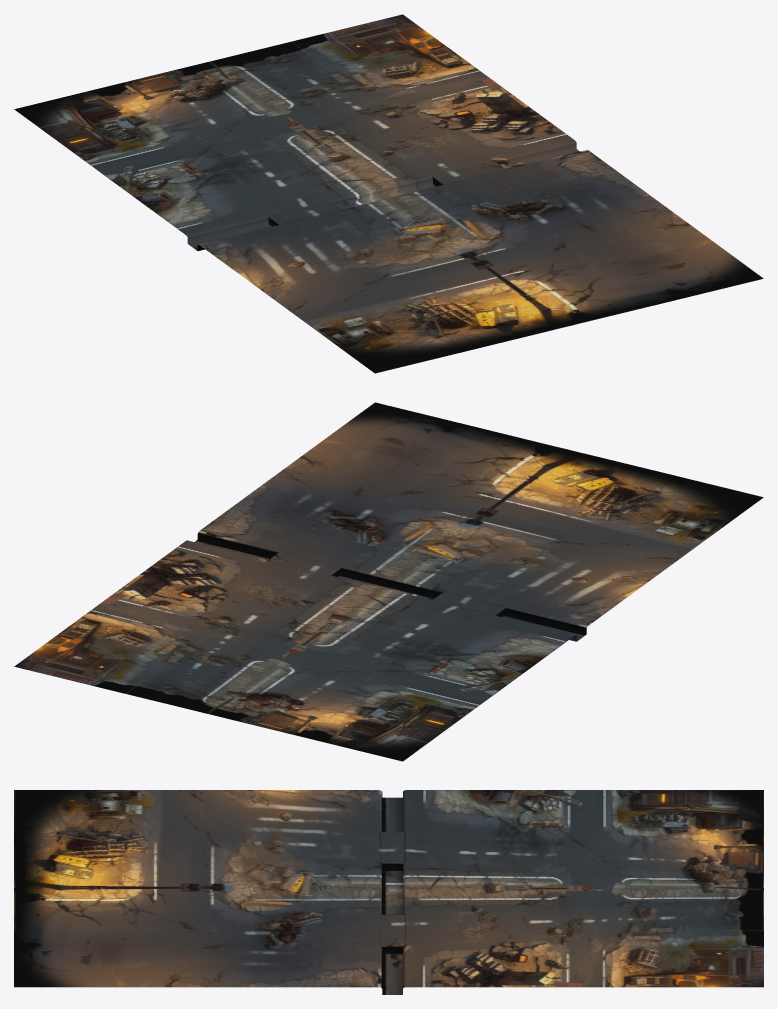
File: arena- without towars.fbx
The picture shows the model from 3 angles, top to bottom: view 1: azimuth 30°, elevation 25°; view 2: azimuth 150°, elevation 25°; view 3: azimuth 270°, elevation 25°; orthographic projection. The views are drawn at different scales.
Visible parts, largest first — view 1: arena__without_towars; view 2: arena__without_towars; view 3: arena__without_towars.
Boxes of the visible parts, left/top/right/bottom form: arena__without_towars: left=14, top=14, right=763, bottom=373; arena__without_towars: left=14, top=402, right=763, bottom=761; arena__without_towars: left=14, top=790, right=763, bottom=994.
Size of the model in its own units: 1954 by 35.74 by 3142.
